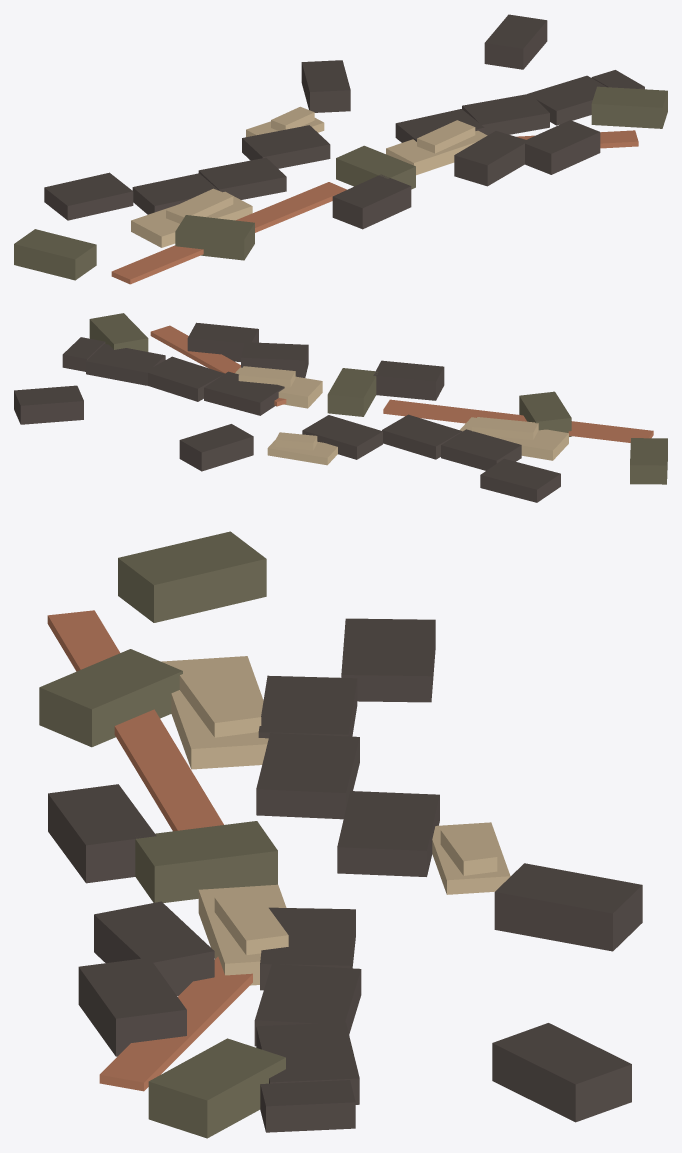
File: SM_MuroSacos_v3_Tablon_e3_Brecha_LOD1.fbx
3 renders of one model, top to bottom at view 1: azimuth 30°, elevation 25°; view 2: azimuth 150°, elevation 25°; view 3: azimuth 270°, elevation 25°, orthographic. The views are drawn at different scales.
Visible parts, largest first — view 1: SM_bloques.muro_sacos_estados_v15_LOD1; view 2: SM_bloques.muro_sacos_estados_v15_LOD1; view 3: SM_bloques.muro_sacos_estados_v15_LOD1.
Boxes of the visible parts, x1=… form: SM_bloques.muro_sacos_estados_v15_LOD1: x1=14, y1=14, x2=667, y2=284; SM_bloques.muro_sacos_estados_v15_LOD1: x1=14, y1=313, x2=667, y2=502; SM_bloques.muro_sacos_estados_v15_LOD1: x1=39, y1=531, x2=642, y2=1138.
Size of the model in its own units: 8.36 by 0.26 by 3.74.
